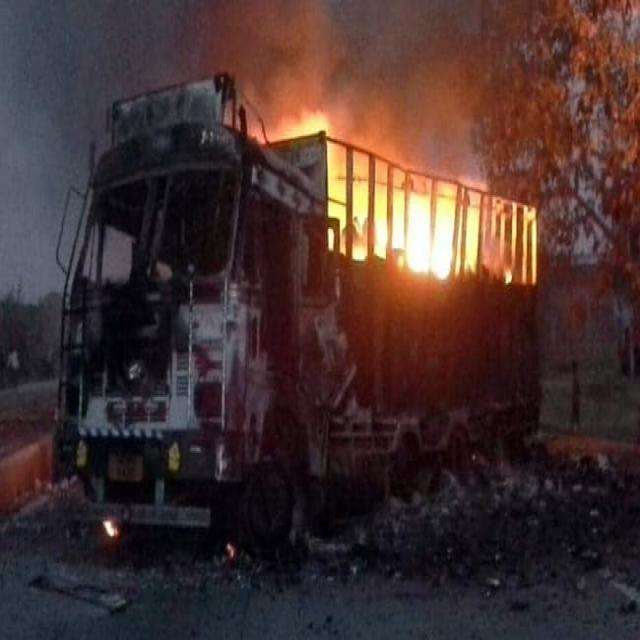accident: (52, 75, 543, 557)
